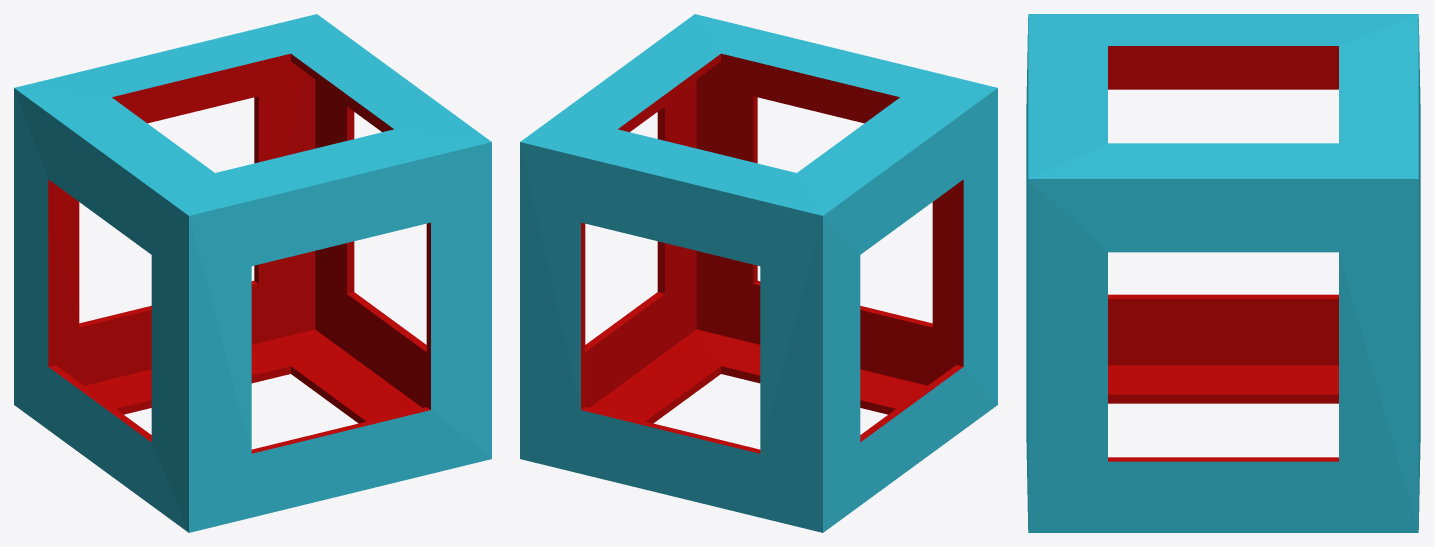
File: CubeS1.glb
The picture shows the model from 3 angles, left to right: view 1: azimuth 30°, elevation 25°; view 2: azimuth 150°, elevation 25°; view 3: azimuth 270°, elevation 25°; orthographic projection. The views are drawn at different scales.
Parts seen in each view (by area): view 1: Mesh_0005_1, Mesh_0005; view 2: Mesh_0005_1, Mesh_0005; view 3: Mesh_0005_1, Mesh_0005.
Part boxes in pixels (<box>): Mesh_0005_1: <box>14,14,491,532</box>; Mesh_0005: <box>48,53,430,453</box>; Mesh_0005_1: <box>520,14,997,532</box>; Mesh_0005: <box>581,53,963,453</box>; Mesh_0005_1: <box>1026,14,1420,532</box>; Mesh_0005: <box>1108,46,1338,461</box>.
Bounding box in the file's own units: 1.02 × 1.03 × 1.03.
